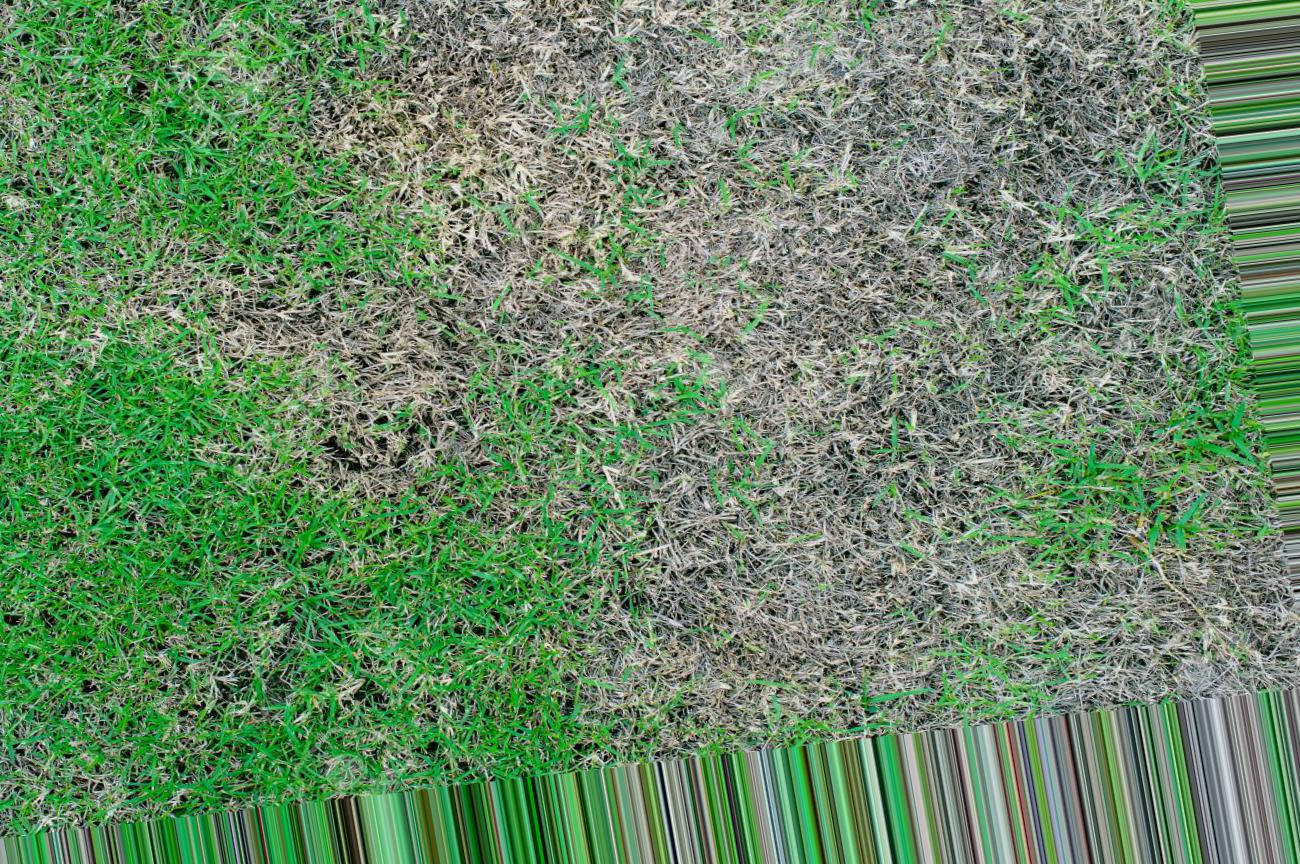patch: (464, 26, 1067, 665), (957, 204, 1195, 675)
